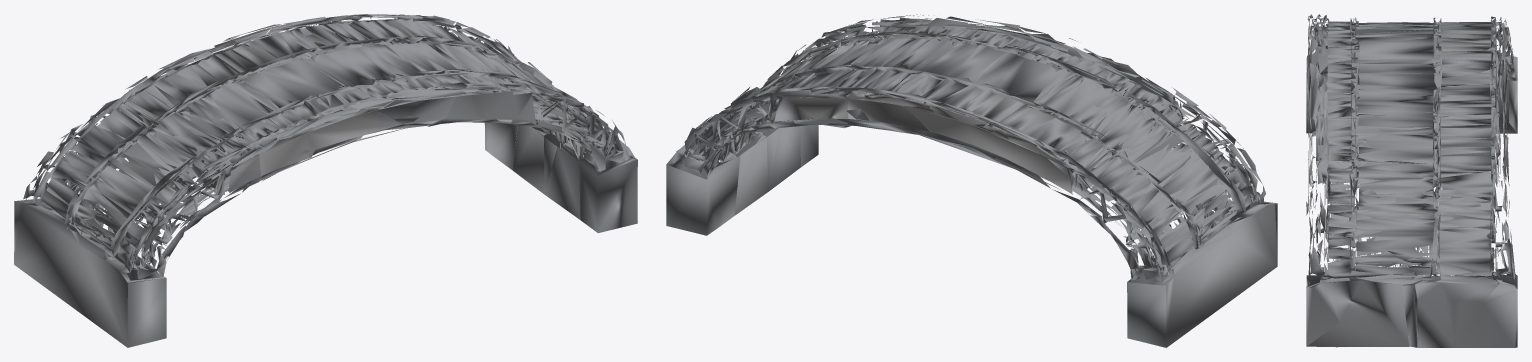
File: portal_arch.glb
3 renders of one model, left to right at view 1: azimuth 30°, elevation 25°; view 2: azimuth 150°, elevation 25°; view 3: azimuth 270°, elevation 25°, orthographic. The views are drawn at different scales.
Parts seen in each view (by area): view 1: LO.001; view 2: LO.001; view 3: LO.001.
Boxes of the visible parts, bbox=[...] form: LO.001: bbox=[14, 14, 637, 347]; LO.001: bbox=[666, 14, 1277, 347]; LO.001: bbox=[1306, 14, 1517, 347].
Bounding box in the file's own units: 26.02 × 8.99 × 10.
Materials: 1 (1 with a texture image).
